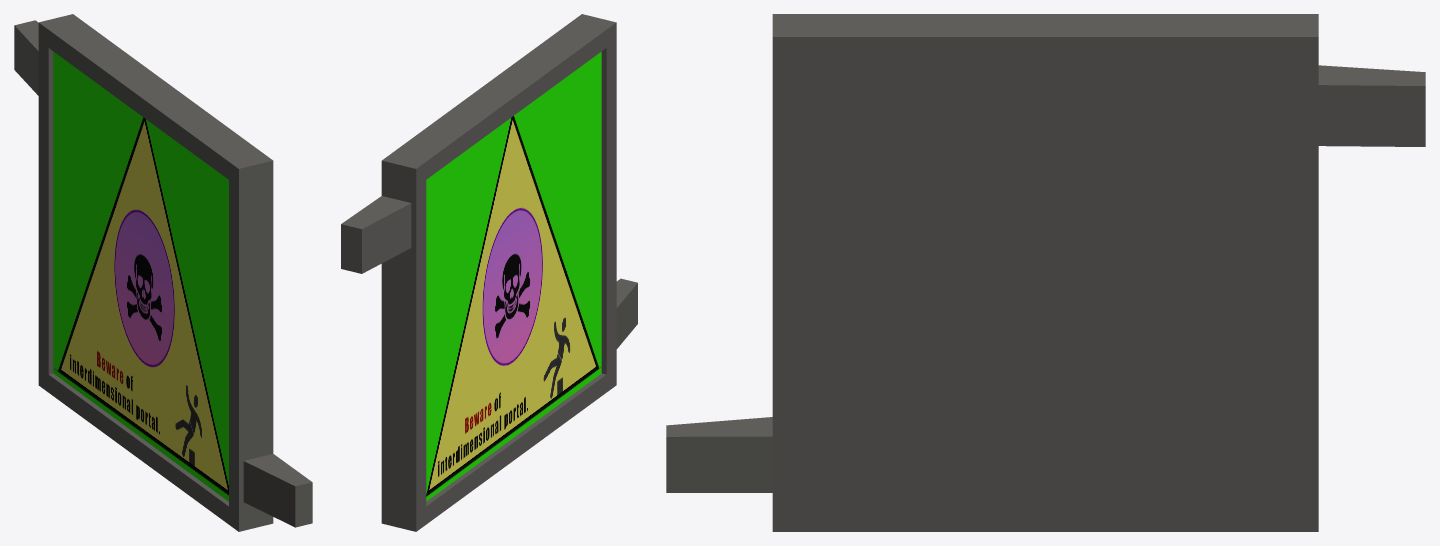
Rendered from DangerSign.fbx.
3 renders of one model, left to right at view 1: azimuth 30°, elevation 25°; view 2: azimuth 150°, elevation 25°; view 3: azimuth 270°, elevation 25°, orthographic. The views are drawn at different scales.
Parts seen in each view (by area): view 1: Danger; view 2: Danger; view 3: Danger.
Boxes of the visible parts, x1,y1,x2,y2 form: Danger: (14, 14, 312, 531); Danger: (341, 14, 637, 531); Danger: (666, 14, 1425, 531).
Size of the model in its own units: 55.33 by 532 by 740.
